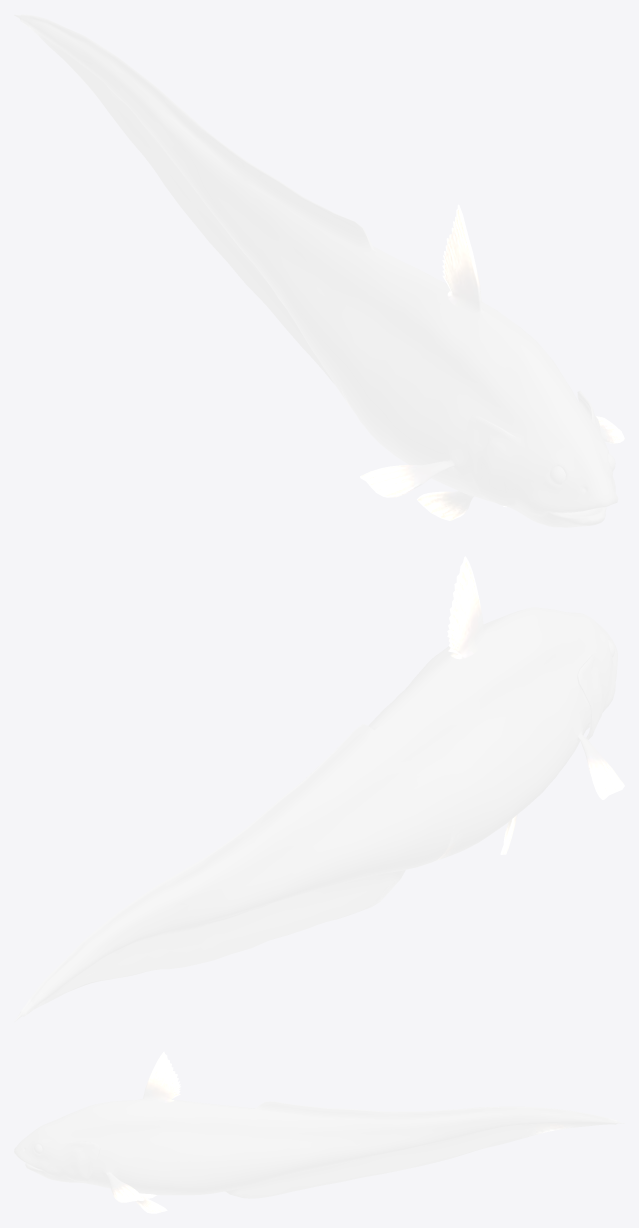
The model's file is Abyssalgrenadier.glb.
3 renders of one model, top to bottom at view 1: azimuth 30°, elevation 25°; view 2: azimuth 150°, elevation 25°; view 3: azimuth 270°, elevation 25°, orthographic. The views are drawn at different scales.
Parts seen in each view (by area): view 1: abyssal_grenadier_LOD1.1; view 2: abyssal_grenadier_LOD1.1; view 3: abyssal_grenadier_LOD1.1.
Boxes of the visible parts, left/top/right/bottom form: abyssal_grenadier_LOD1.1: left=14, top=14, right=624, bottom=527; abyssal_grenadier_LOD1.1: left=14, top=556, right=624, bottom=1022; abyssal_grenadier_LOD1.1: left=14, top=1051, right=624, bottom=1213.
Size of the model in its own units: 0.029 by 0.0335 by 0.1208.
1 material, 1 textured.
